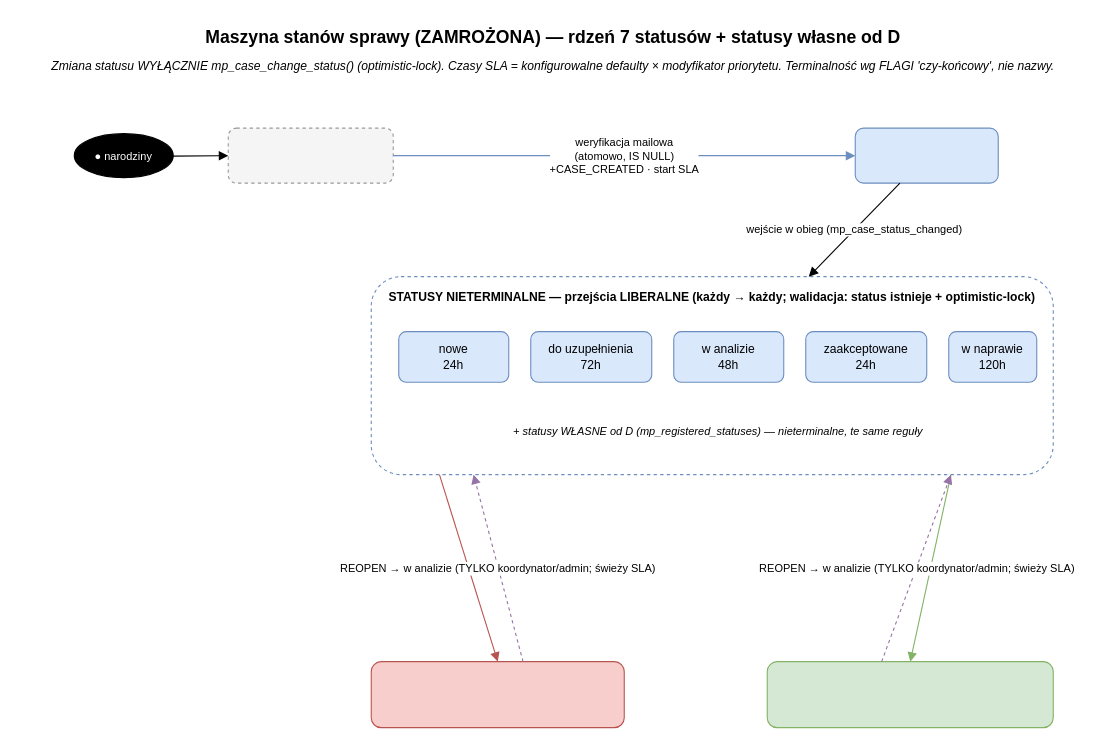
This 1104x747 diagram has some shape labels left out. The shapes that lost their labels are listed below. From the top down, each one's box as (x1, y1, x2, y2) in pixels, then its label:
(227, 127, 393, 183): NULL (unverified) identity = pending BEZ eventów
(854, 127, 998, 183): nowe (SLA 24h)
(370, 661, 624, 728): odrzucone ◼ TERMINALNY · bez SLA WYMAGA rejection_reason_code
(766, 661, 1053, 728): zamknięte ◼ TERMINALNY · bez SLA D generuje RAPORT KOŃCOWY (krok 8)
